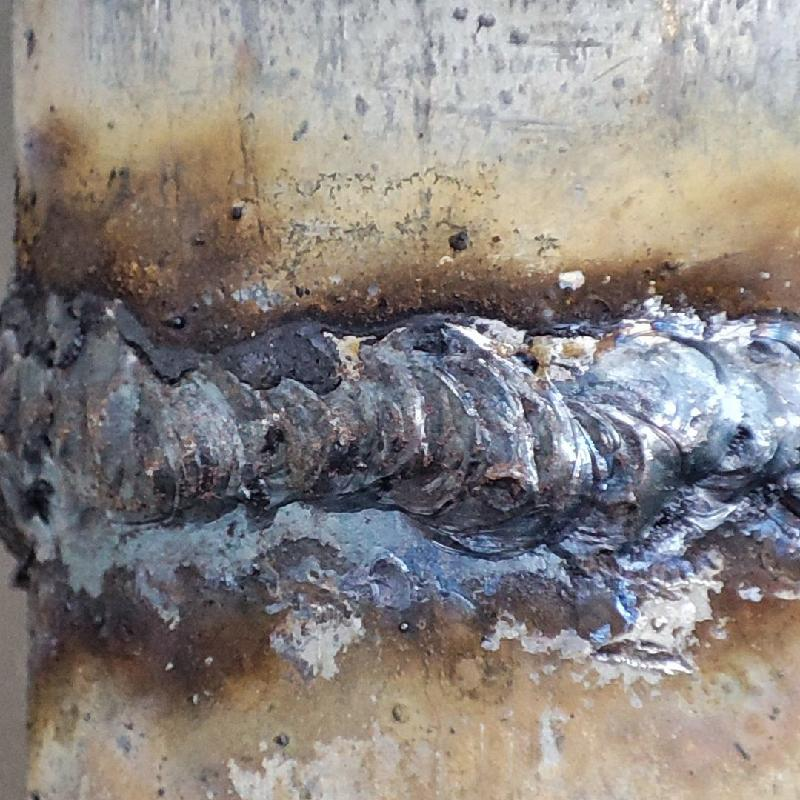good: (5, 284, 799, 551)
